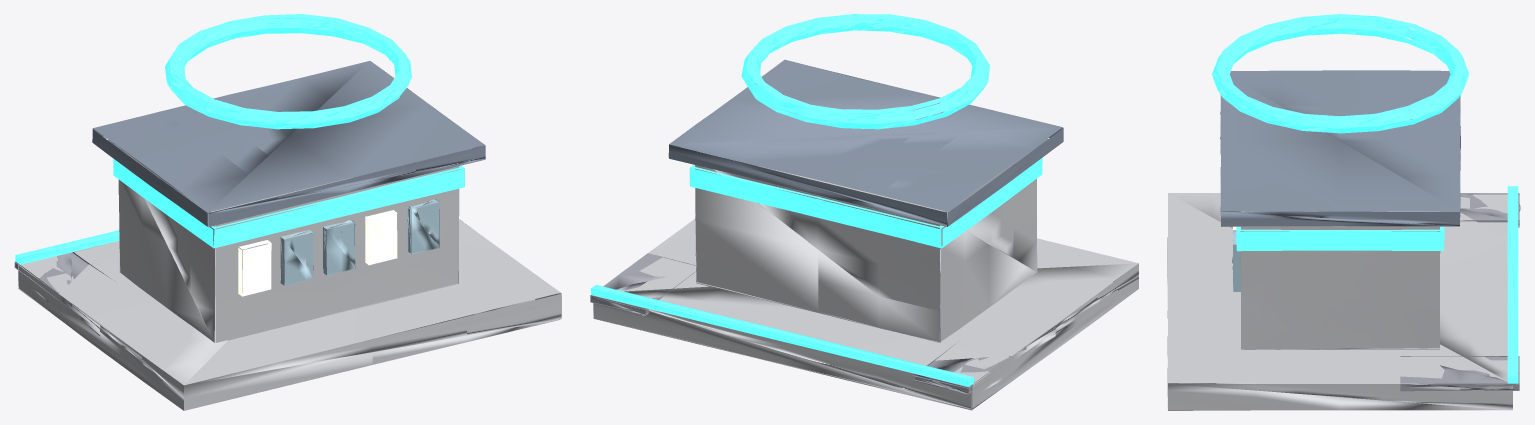
The model's file is interchange.glb.
The picture shows the model from 3 angles, left to right: view 1: azimuth 30°, elevation 25°; view 2: azimuth 150°, elevation 25°; view 3: azimuth 270°, elevation 25°; orthographic projection. The views are drawn at different scales.
Visible parts, largest first — view 1: MetroInterchange; view 2: MetroInterchange; view 3: MetroInterchange.
Part boxes in pixels (left/top/right/bottom): MetroInterchange: left=14, top=14, right=561, bottom=410; MetroInterchange: left=590, top=14, right=1138, bottom=410; MetroInterchange: left=1167, top=14, right=1520, bottom=410.
Bounding box in the file's own units: 3.41 × 2.08 × 2.67.
